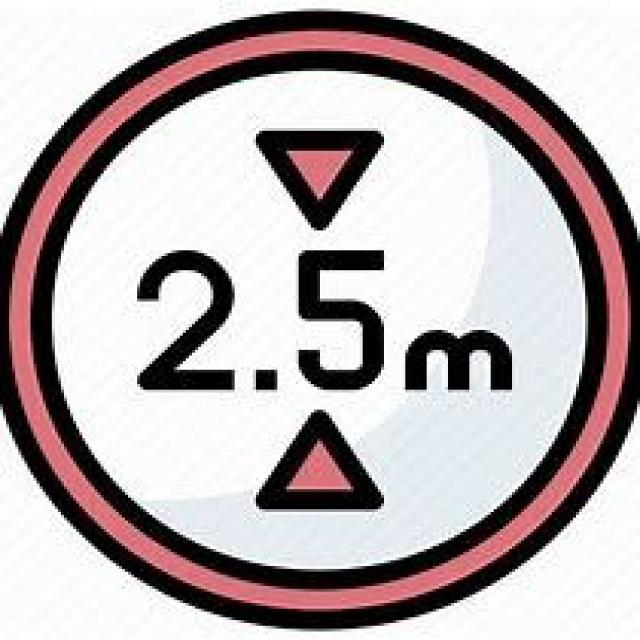height limit: (18, 20, 623, 619)
